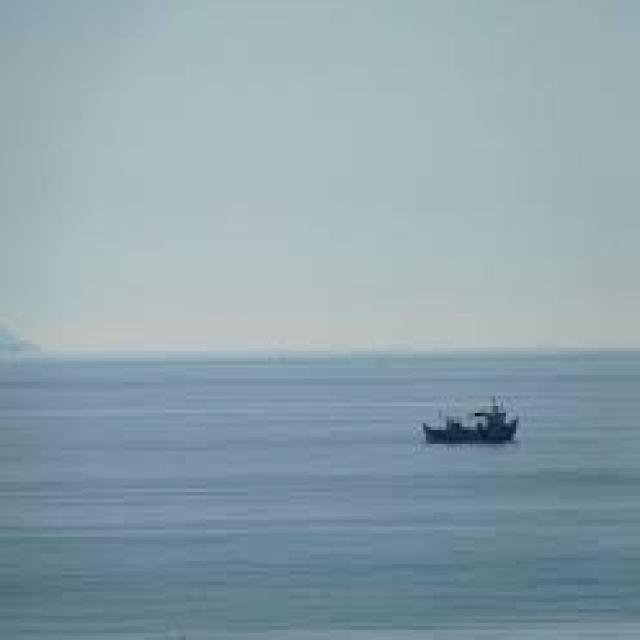fishing boat: (412, 393, 532, 448)
